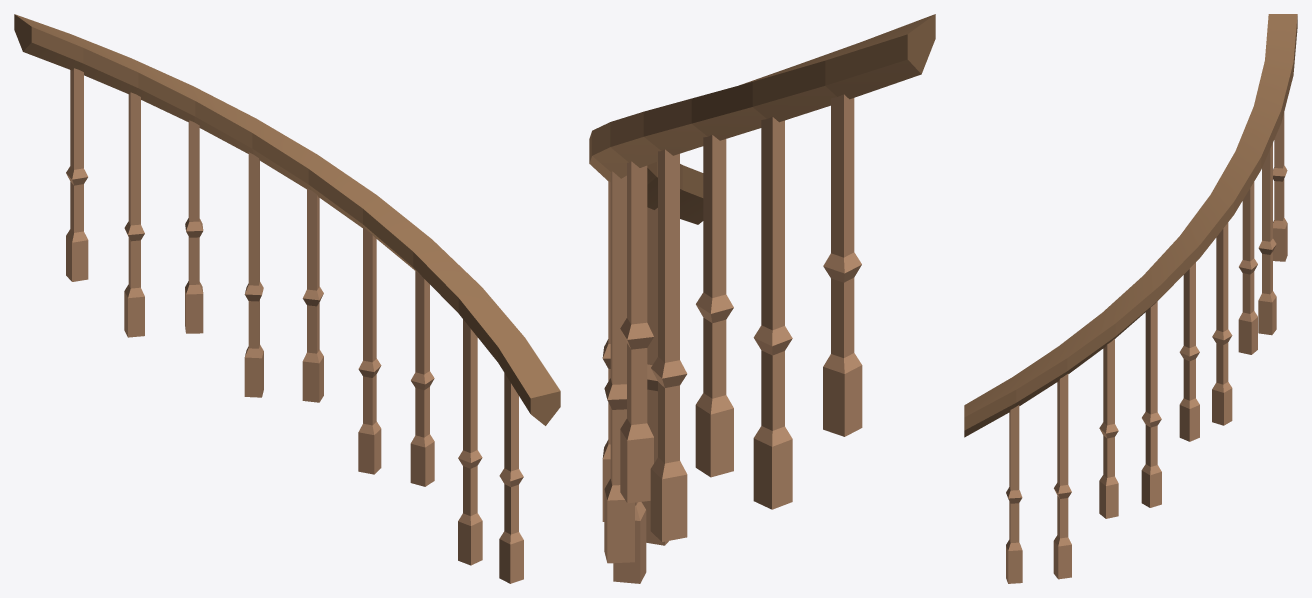
Rendered from Stairs_Curved_Small_Handrail.obj.
3 renders of one model, left to right at view 1: azimuth 30°, elevation 25°; view 2: azimuth 150°, elevation 25°; view 3: azimuth 270°, elevation 25°, orthographic. The views are drawn at different scales.
Visible parts, largest first — view 1: object10, object4, object3, object5, object2, object9, object8, object1, object6, object7; view 2: object10, object2, object1, object8, object7, object6, object3, object9, object4, object5; view 3: object10, object3, object1, object4, object6, object5, object7, object2, object9, object8.
Boxes of the visible parts, x1,y1,x2,y2 form: object10: (14,14,560,425); object4: (458,319,482,565); object3: (358,227,381,474); object5: (410,271,434,486); object2: (124,92,144,337); object9: (499,373,523,583); object8: (66,68,88,281); object1: (244,152,263,397); object6: (302,188,323,402); object7: (185,120,203,333); object10: (589,14,935,224); object2: (753,117,792,509); object1: (650,149,687,541); object8: (823,94,862,436); object7: (695,135,733,477); object6: (620,161,653,503); object3: (604,171,634,563); object9: (641,207,668,545); object4: (613,502,646,583); object5: (602,180,610,521); object10: (964,14,1297,437); object3: (1141,301,1161,507); object1: (1212,222,1232,425); object4: (1053,373,1071,579); object6: (1179,262,1199,441); object5: (1099,339,1118,518); object7: (1238,182,1257,354); object2: (1258,143,1276,335); object9: (1006,405,1022,583); object8: (1273,112,1287,261).
Size of the model in its own units: 1.15 by 1.65 by 1.15.
